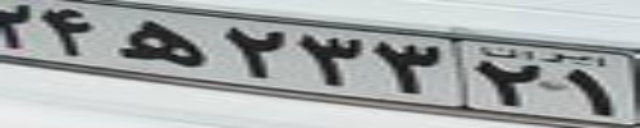1: (565, 66, 618, 117)
2: (223, 27, 287, 78), (473, 59, 542, 106), (0, 3, 32, 49)
3: (373, 41, 444, 95), (297, 35, 362, 87)
4: (40, 6, 93, 56)
he: (115, 18, 206, 67)
